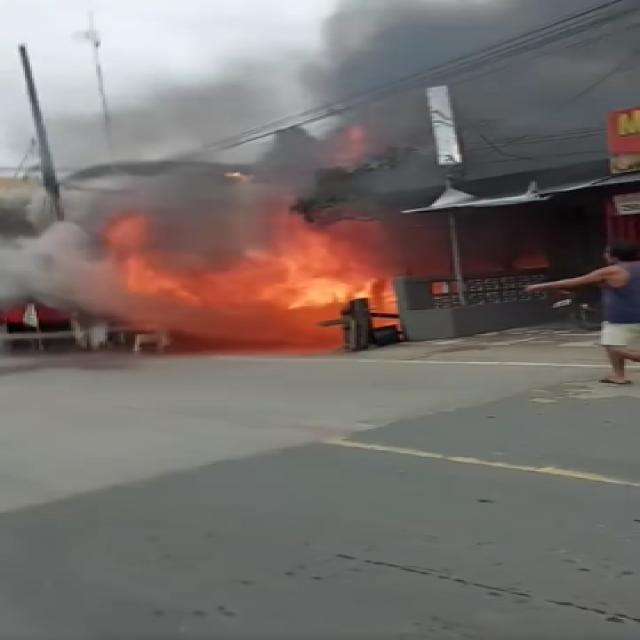Fire: (128, 230, 364, 314)
Smoke: (252, 11, 612, 152), (84, 116, 316, 274), (27, 198, 231, 298)
